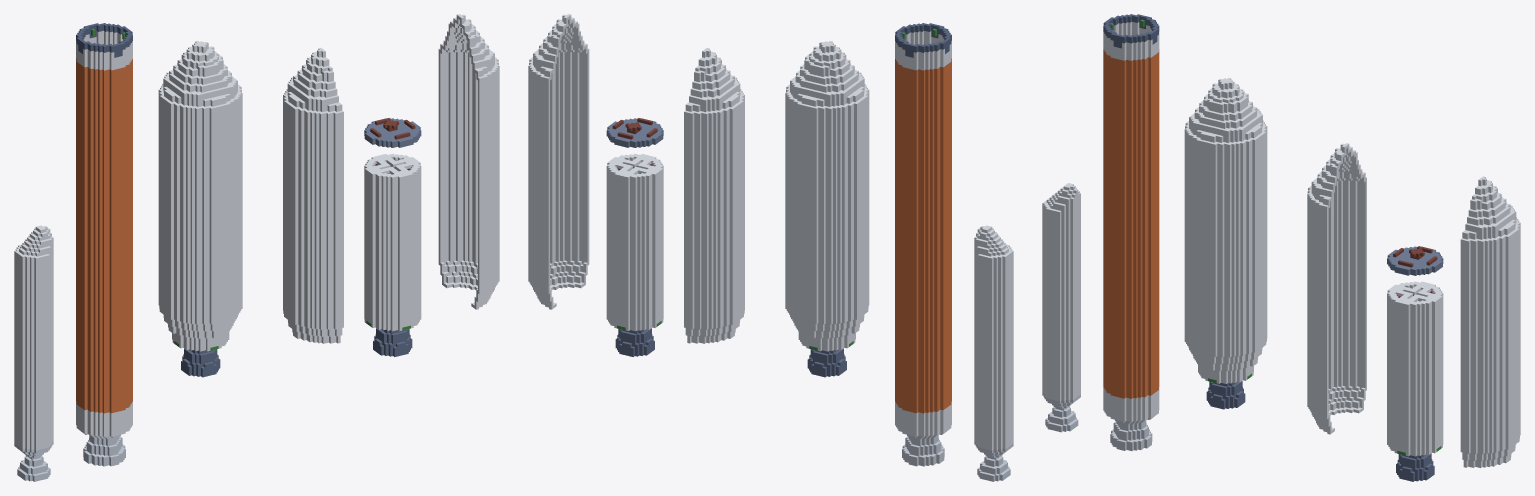
The model's file is Sun_V_all_parts.glb.
The picture shows the model from 3 angles, left to right: view 1: azimuth 30°, elevation 25°; view 2: azimuth 150°, elevation 25°; view 3: azimuth 330°, elevation 25°; orthographic projection.
Parts seen in each view (by area): view 1: ObjObject.029; view 2: ObjObject.029; view 3: ObjObject.029.
Part boxes in pixels (x1,y1,x2,y2): ObjObject.029: (14, 14, 499, 481); ObjObject.029: (528, 14, 1013, 481); ObjObject.029: (1042, 14, 1520, 481).
Size of the model in its own units: 16.8 by 14.3 by 2.5.
1 material, 1 textured.
